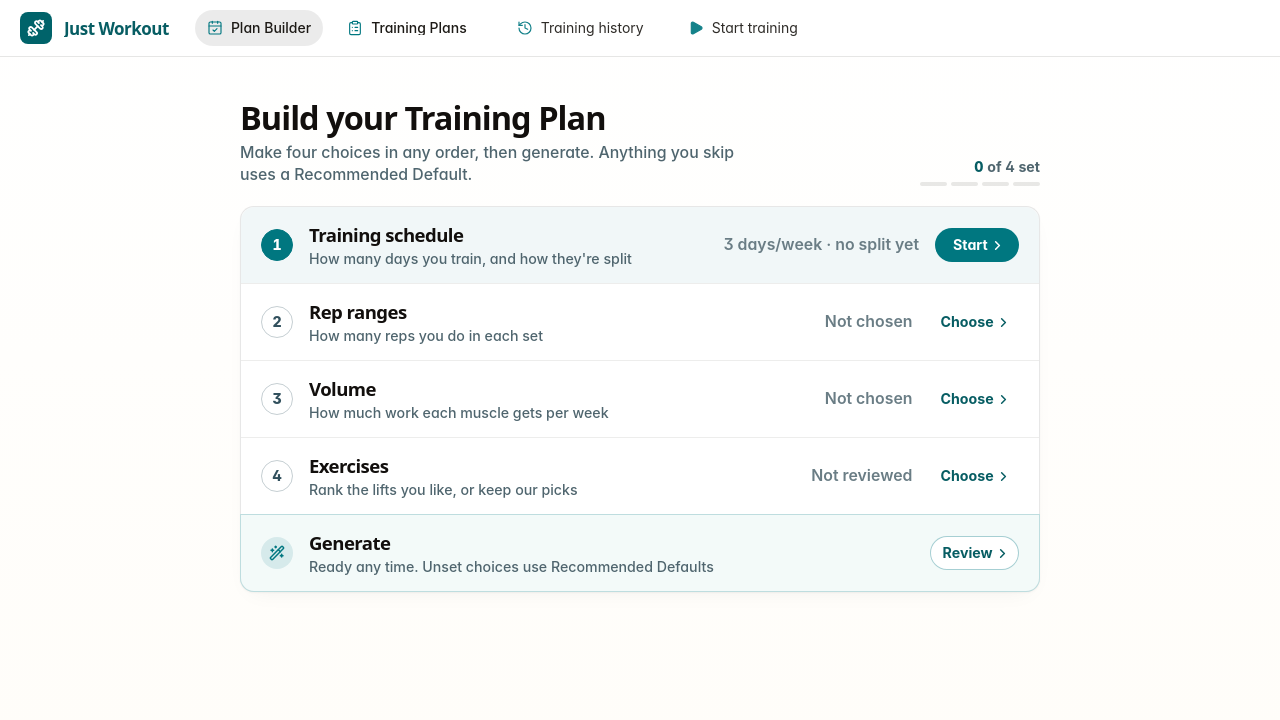
Plan Builder canonical route › applies the Recommended Training Split when Training schedule opens
The image size is (1280, 720).
Click the button "Training schedule". click: x=277, y=245
box: [241, 207, 1039, 283]
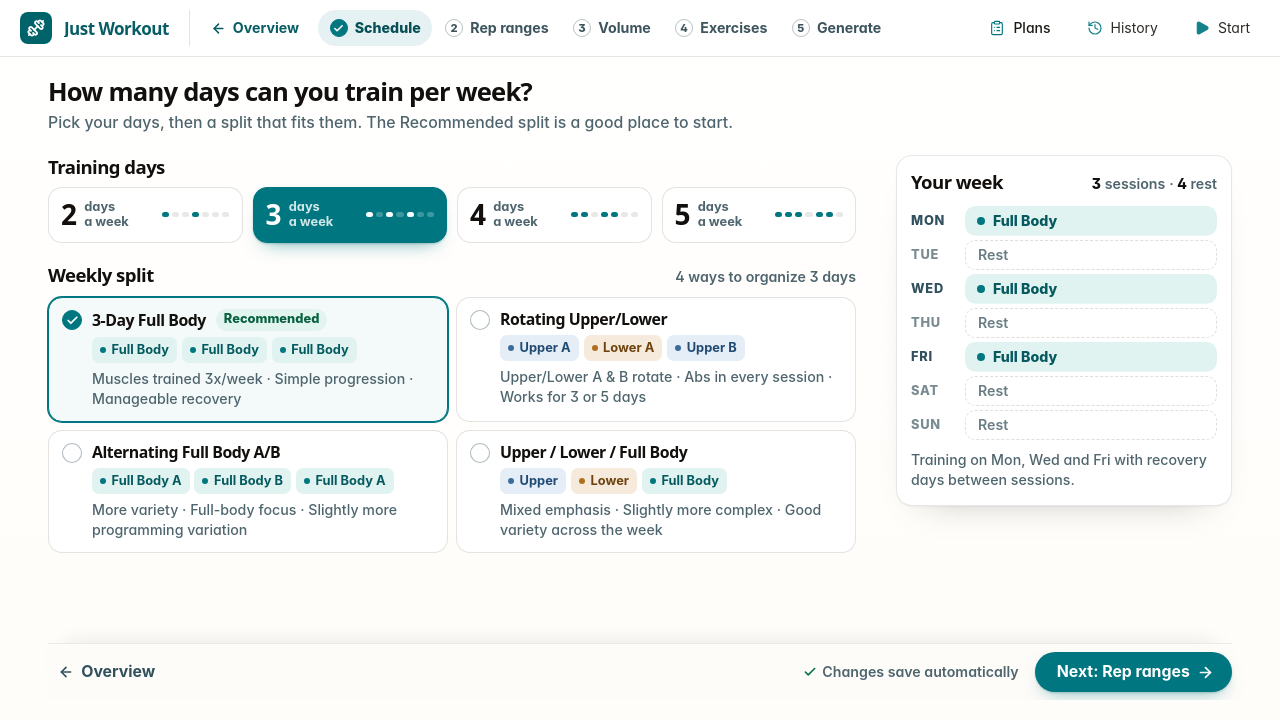
Result: the radio button labelled "3-Day Full Body" is checked at [48, 297, 448, 422]
